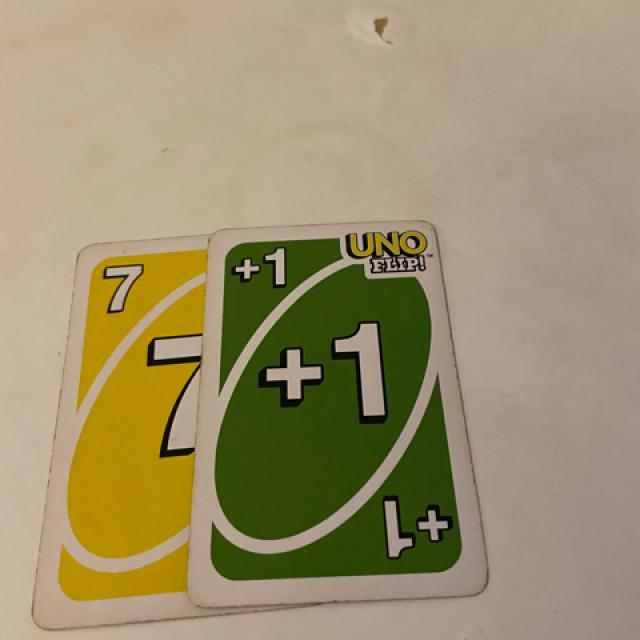lyellow-7: (90, 253, 160, 327)
